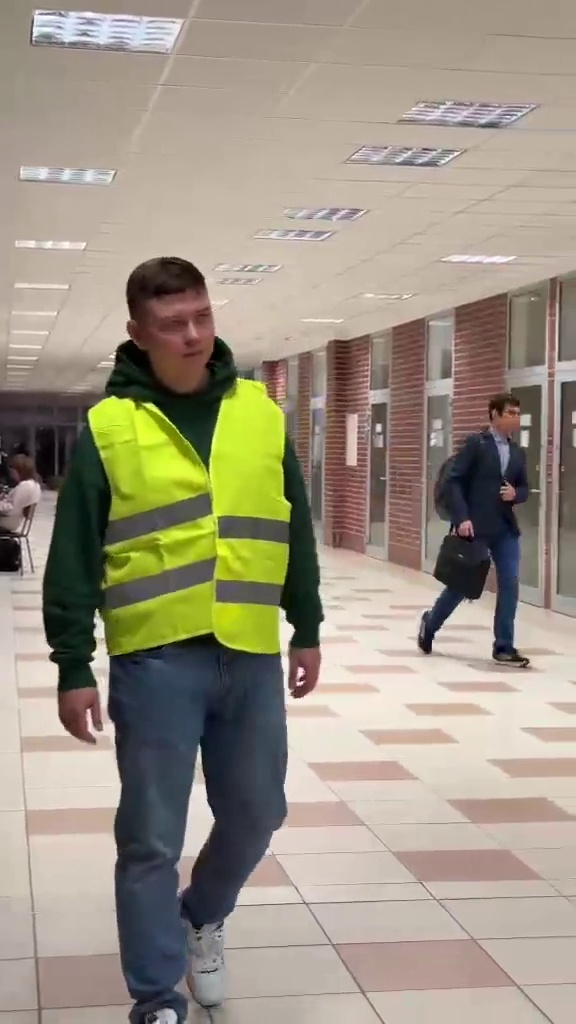no vest: (417, 389, 539, 676)
vest: (58, 245, 322, 1024)
